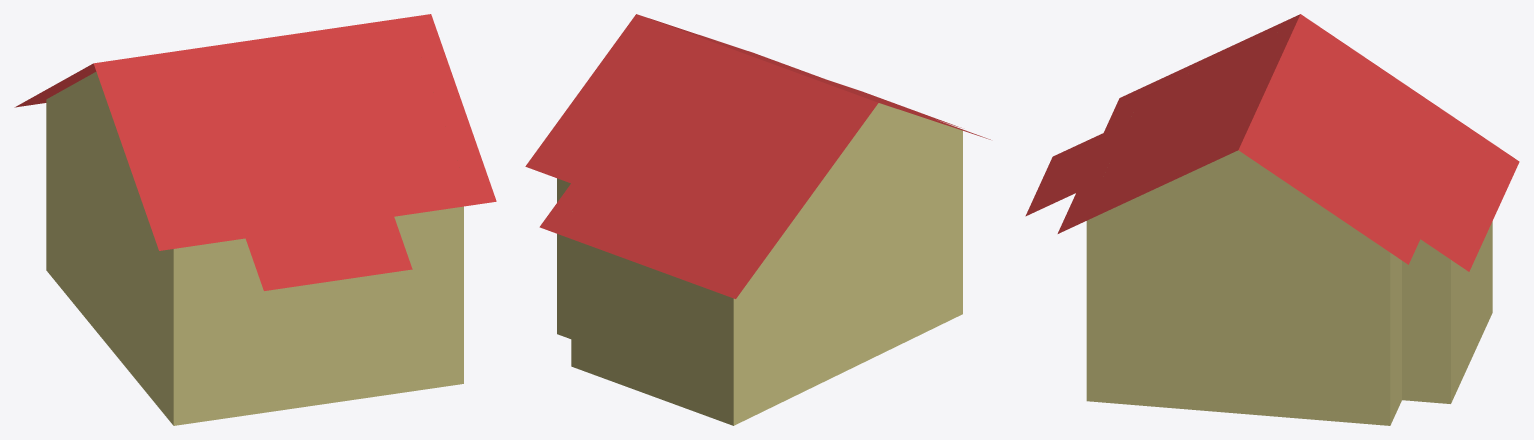
3 views of the same model, side by side, from view 1: azimuth 30°, elevation 25°; view 2: azimuth 150°, elevation 25°; view 3: azimuth 270°, elevation 25° (orthographic). The views are drawn at different scales.
Size of the model in its own units: 12.66 by 16.04 by 9.78.
